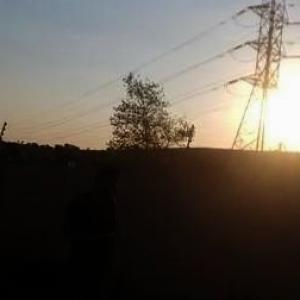follow: (60, 157, 128, 299)
